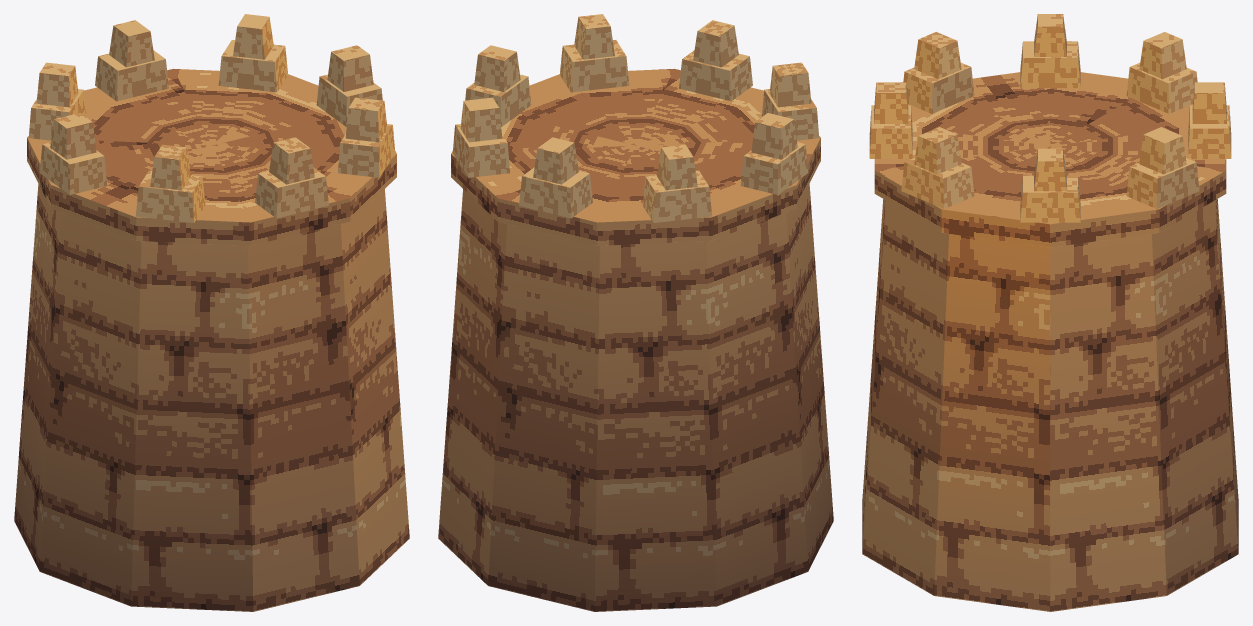
File: ruin.rampart__tower.glb
The picture shows the model from 3 angles, left to right: view 1: azimuth 30°, elevation 25°; view 2: azimuth 150°, elevation 25°; view 3: azimuth 270°, elevation 25°; orthographic projection.
Parts seen in each view (by area): view 1: kit_tower, kit_merlons; view 2: kit_tower, kit_merlons; view 3: kit_tower, kit_merlons.
Boxes of the visible parts, bbox=[...] form: kit_tower: bbox=[14, 68, 409, 611]; kit_merlons: bbox=[28, 14, 395, 222]; kit_tower: bbox=[438, 68, 833, 611]; kit_merlons: bbox=[452, 14, 819, 222]; kit_tower: bbox=[862, 72, 1238, 611]; kit_merlons: bbox=[869, 14, 1231, 222].
Size of the model in its own units: 4.6 by 5.65 by 4.37.
2 materials, 2 textured.
